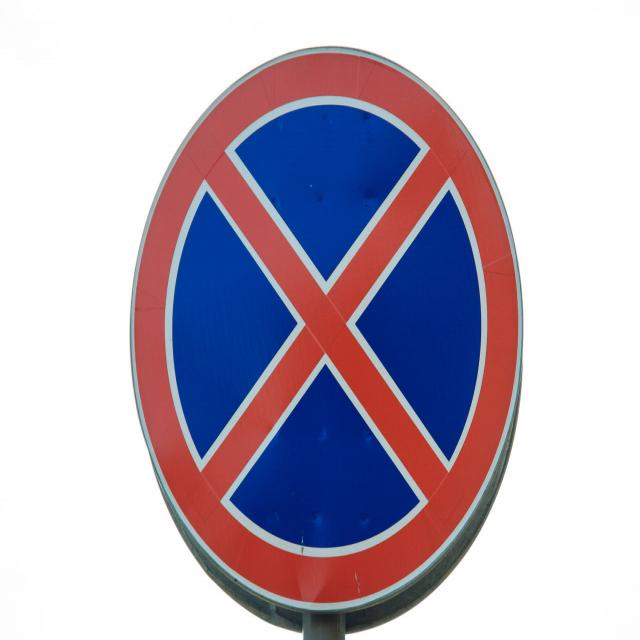no stopping: (128, 42, 530, 636)
